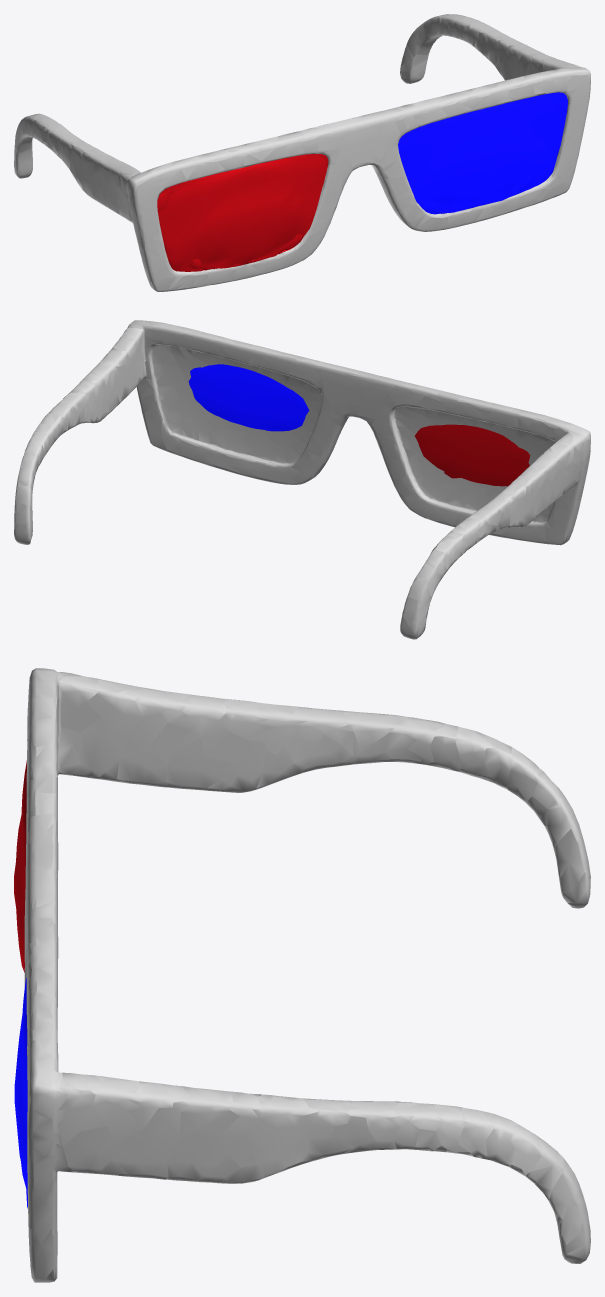
3 renders of one model, top to bottom at view 1: azimuth 30°, elevation 25°; view 2: azimuth 150°, elevation 25°; view 3: azimuth 270°, elevation 25°, orthographic. The views are drawn at different scales.
Parts seen in each view (by area): view 1: Sphere; view 2: Sphere; view 3: Sphere.
Part boxes in pixels (<box>): Sphere: <box>14,14,590,291</box>; Sphere: <box>14,320,590,639</box>; Sphere: <box>14,668,590,1282</box>.
Bounding box in the file's own units: 0.5607 × 0.1528 × 0.3254.
